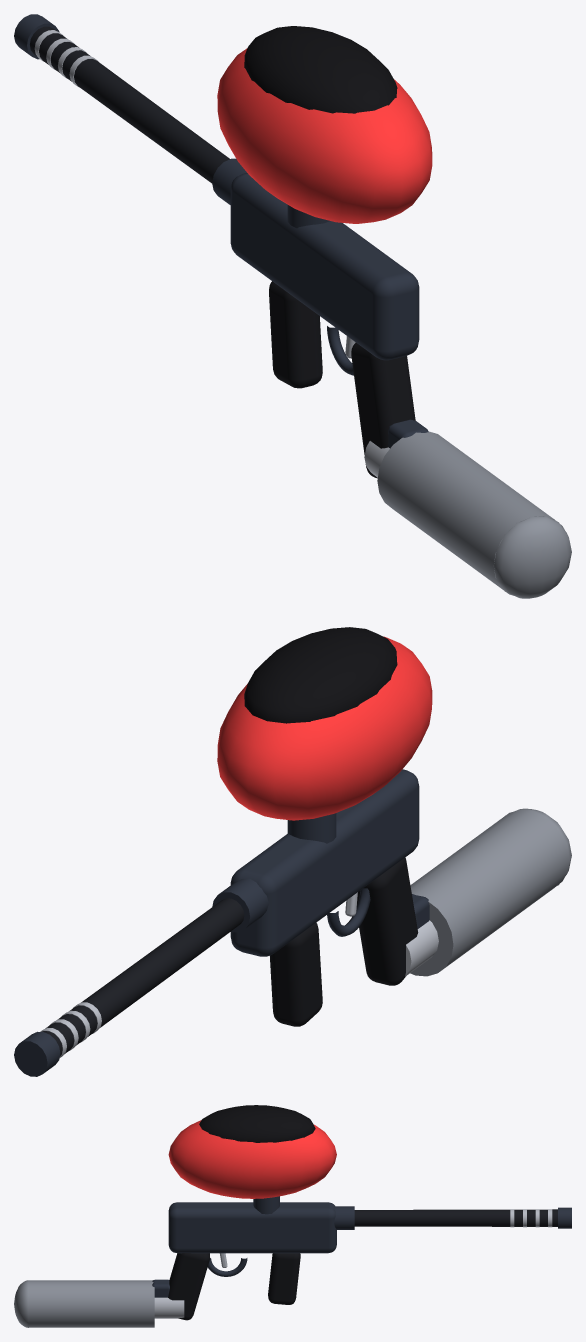
File: marker.glb
The picture shows the model from 3 angles, top to bottom: view 1: azimuth 30°, elevation 25°; view 2: azimuth 150°, elevation 25°; view 3: azimuth 270°, elevation 25°; orthographic projection. The views are drawn at different scales.
Visible parts, largest first — view 1: marker; view 2: marker; view 3: marker.
Boxes of the visible parts, x1,y1,x2,y2 form: marker: (14,14,571,598); marker: (14,627,571,1076); marker: (14,1105,571,1327).
Size of the model in its own units: 0.136 by 0.339 by 0.7954.
